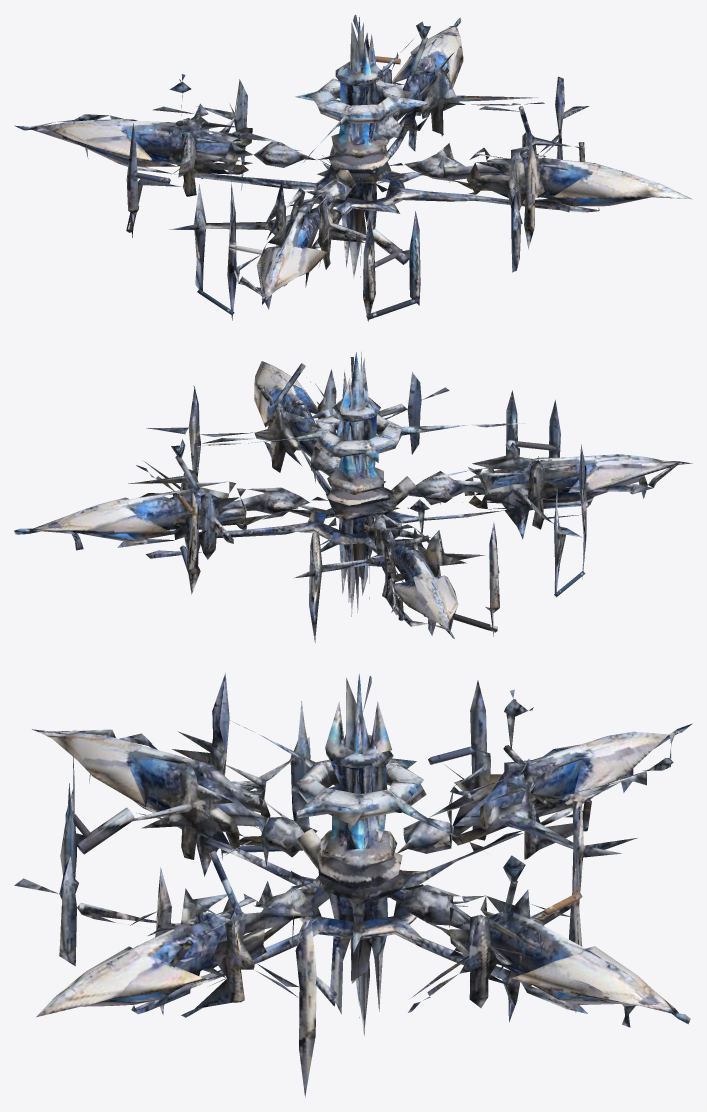
Rendered from st3d_aurelion_shipyard_lod2.glb.
3 views of the same model, one above another, from view 1: azimuth 30°, elevation 25°; view 2: azimuth 150°, elevation 25°; view 3: azimuth 270°, elevation 25° (orthographic). The views are drawn at different scales.
Parts seen in each view (by area): view 1: HOMELANCER_Station3D_Aurelion-Shipyard_v1; view 2: HOMELANCER_Station3D_Aurelion-Shipyard_v1; view 3: HOMELANCER_Station3D_Aurelion-Shipyard_v1.
Part boxes in pixels (x1,y1,x2,y2): HOMELANCER_Station3D_Aurelion-Shipyard_v1: (14, 14, 692, 321); HOMELANCER_Station3D_Aurelion-Shipyard_v1: (14, 352, 692, 642); HOMELANCER_Station3D_Aurelion-Shipyard_v1: (14, 672, 692, 1097).
Size of the model in its own units: 0.9755 by 0.5601 by 0.9474.
Materials: 1 (1 with a texture image).
